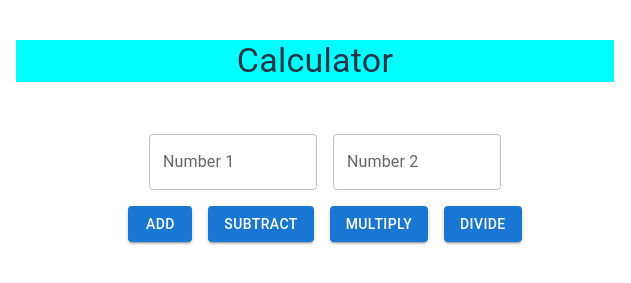
Calculator Component › performs addition with 1 and 1
Type "1" into the number field labelled "Number 1" at (233,162), box [149, 134, 317, 190]
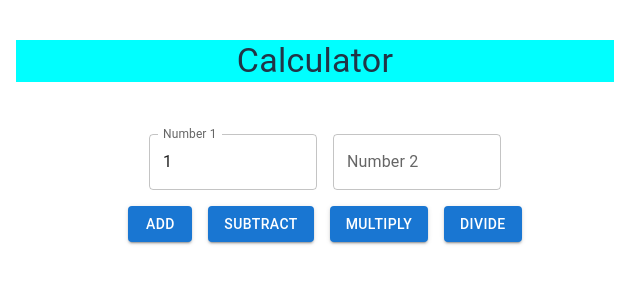
Type "1" into the number field labelled "Number 2" at (417,162), box [333, 134, 501, 190]
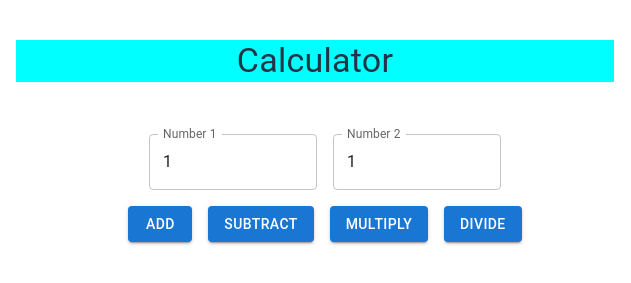
Click the button "Add" at (160,224), box [128, 206, 192, 242]
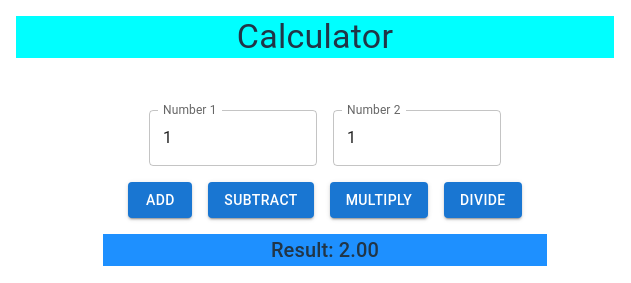
Expected: the heading "Result: 2.00" is shown, [103, 234, 547, 266]
